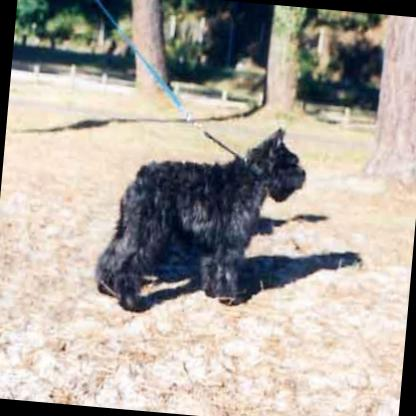Bouvier_des_Flandres: (92, 113, 310, 326)
